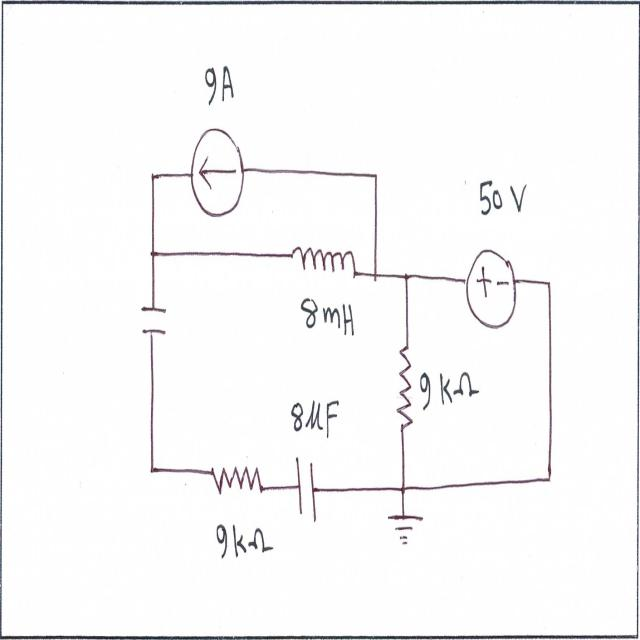capacitor: (294, 451, 321, 526), (134, 297, 170, 347)
current_source: (189, 121, 249, 221)
ground: (383, 510, 428, 552)
inductor: (282, 235, 363, 292)
resistor: (207, 453, 266, 504), (396, 338, 414, 437)
voltage_source: (463, 245, 519, 332)
